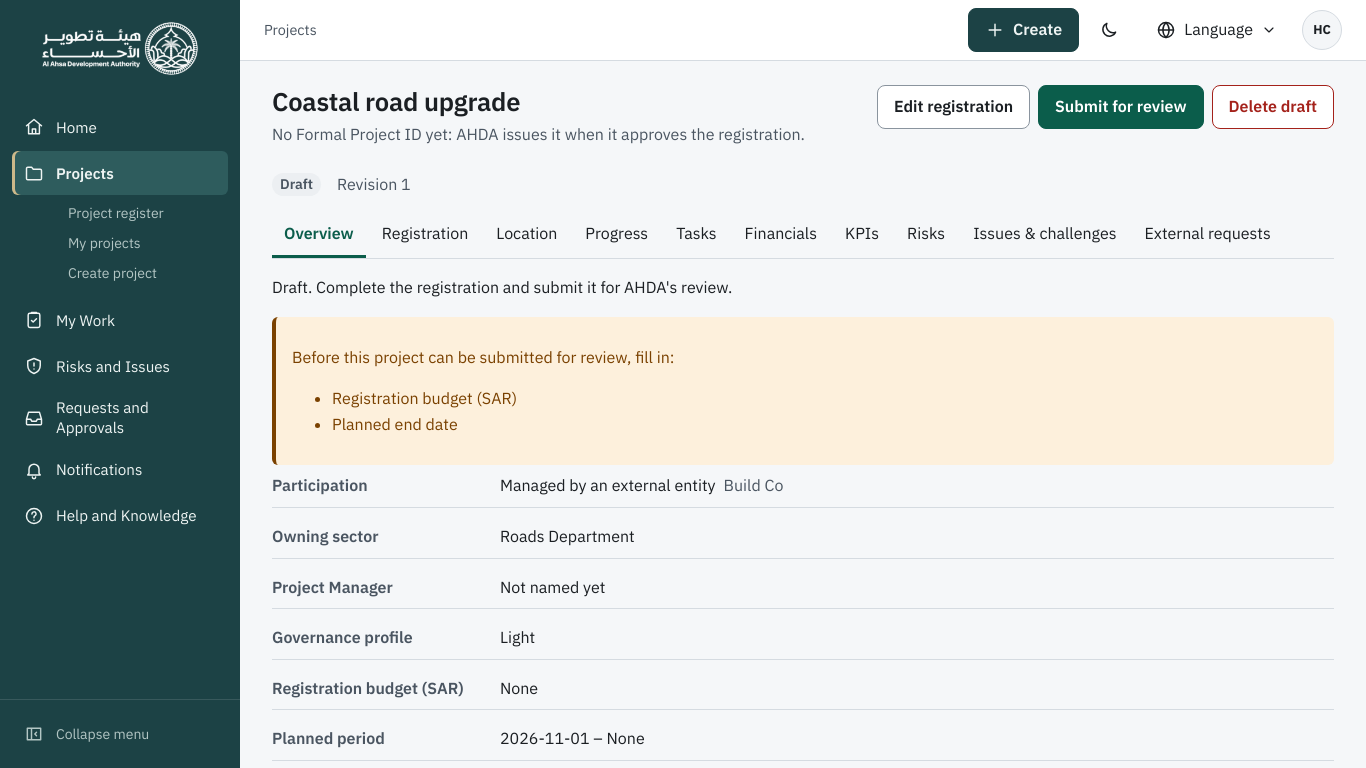
MOD-002 Assign Project Manager (submit for review) › is enabled only once the budget and planned dates are in, and says what is missing
The width and height of the screenshot is (1366, 768).
Click the button "Submit for review": (1121, 107) [1038,85,1204,129]
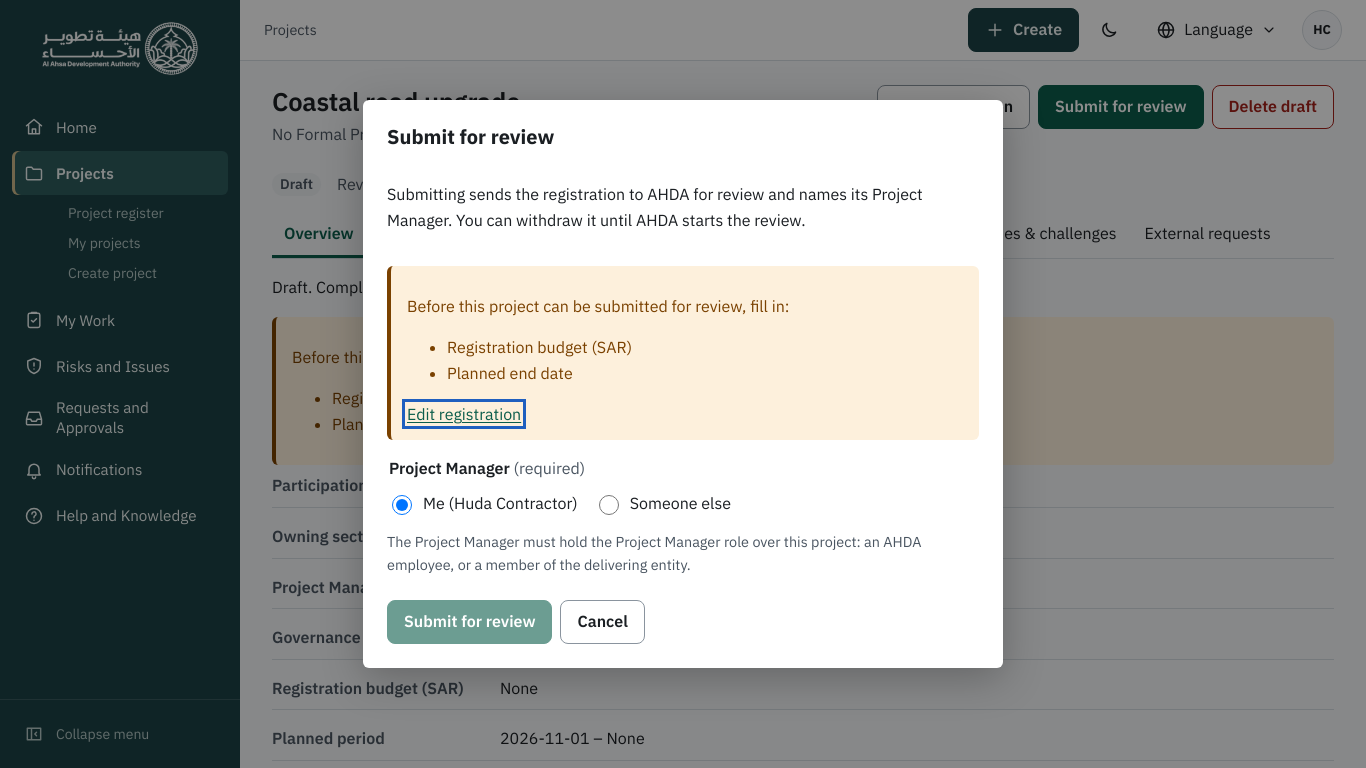
Expected: the list item "Registration budget (SAR)" is shown, [447,337,632,357]
Expected: the list item "Planned end date" is shown, [447,363,573,383]
Expected: the button "Submit for review" is disabled, [387,600,552,644]
